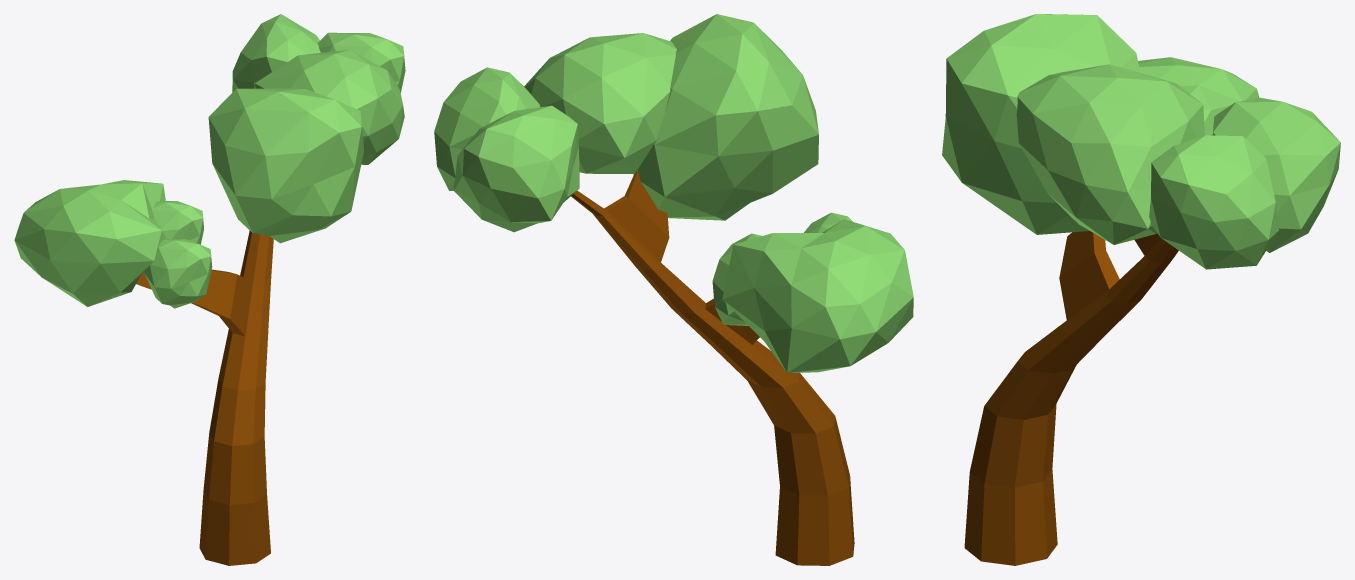
File: arbol.fbx
3 renders of one model, left to right at view 1: azimuth 30°, elevation 25°; view 2: azimuth 150°, elevation 25°; view 3: azimuth 270°, elevation 25°, orthographic. The views are drawn at different scales.
Parts seen in each view (by area): view 1: arboll.010; view 2: arboll.010; view 3: arboll.010.
Boxes of the visible parts, <box> form: arboll.010: <box>14,14,405,565</box>; arboll.010: <box>434,14,913,565</box>; arboll.010: <box>942,14,1340,565</box>.
Bounding box in the file's own units: 699 × 772 × 494.
